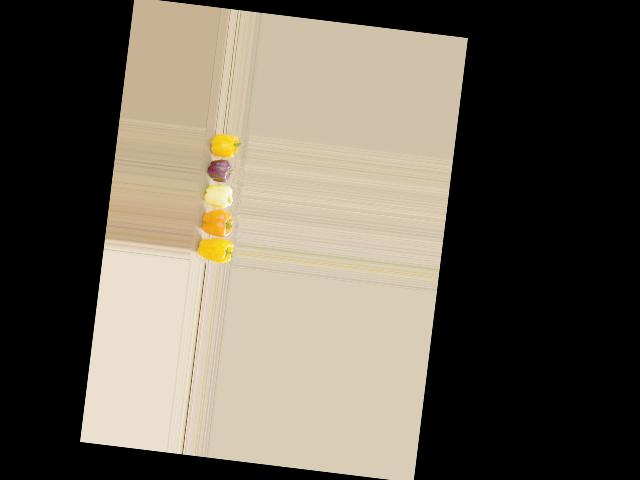bell_pepper: (204, 129, 245, 157)
